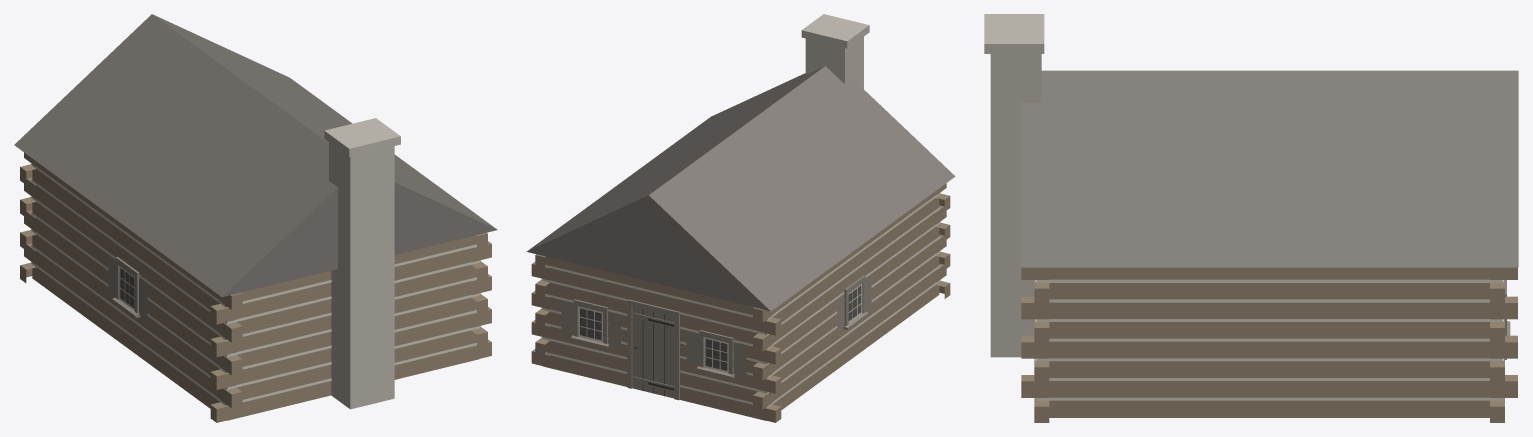
The model's file is recon_1835_west_052__inferred_1835.glb.
The picture shows the model from 3 angles, left to right: view 1: azimuth 30°, elevation 25°; view 2: azimuth 150°, elevation 25°; view 3: azimuth 270°, elevation 25°; orthographic projection. The views are drawn at different scales.
Visible parts, largest first — view 1: recon_1835_west_052__inferred_1835; view 2: recon_1835_west_052__inferred_1835; view 3: recon_1835_west_052__inferred_1835.
Boxes of the visible parts, x1,y1,x2,y2 form: recon_1835_west_052__inferred_1835: (14, 14, 497, 422); recon_1835_west_052__inferred_1835: (526, 14, 955, 422); recon_1835_west_052__inferred_1835: (984, 14, 1518, 422).
Size of the model in its own units: 5.99 by 5.46 by 8.39.
